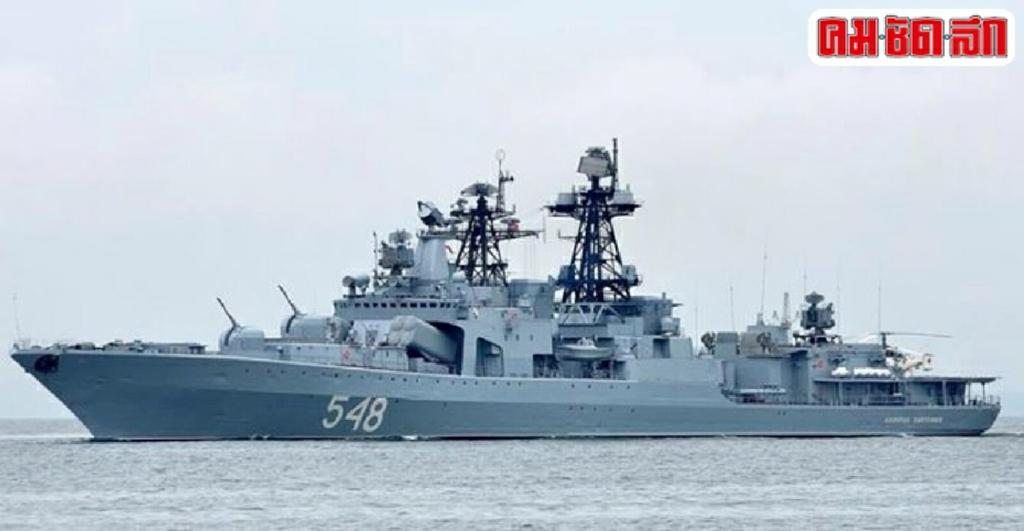Warship: (4, 138, 1006, 452)
